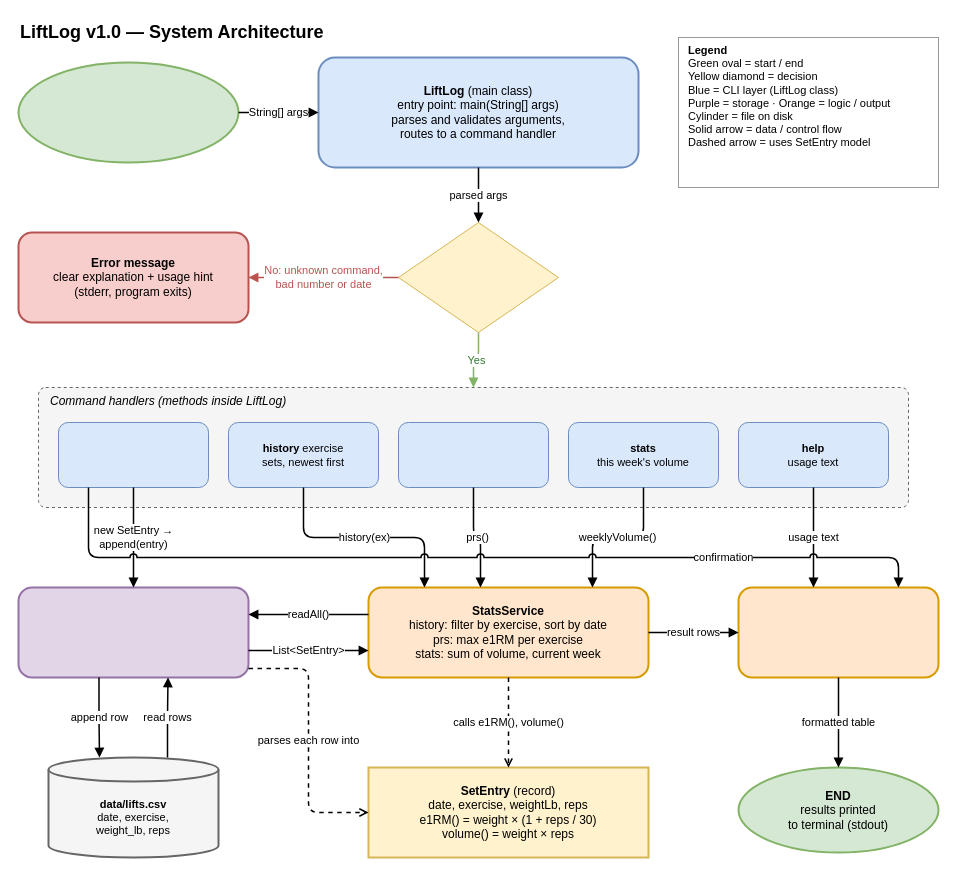
Image size: 956x875. Some labels were removed from this diagram. Here are the shapes that lost their labels. From the top down, the centre of each, then its label:
[128,112]: START User runs: java -jar liftlog.jar <command> [args]
[478,277]: Valid command and arguments?
[133,455]: log exercise weight reps [--date YYYY-MM-DD]
[473,455]: prs best e1RM per exercise
[133,632]: CsvStore append(SetEntry) readAll() -> List<SetEntry>
[838,632]: TablePrinter formats aligned columns with String.format
